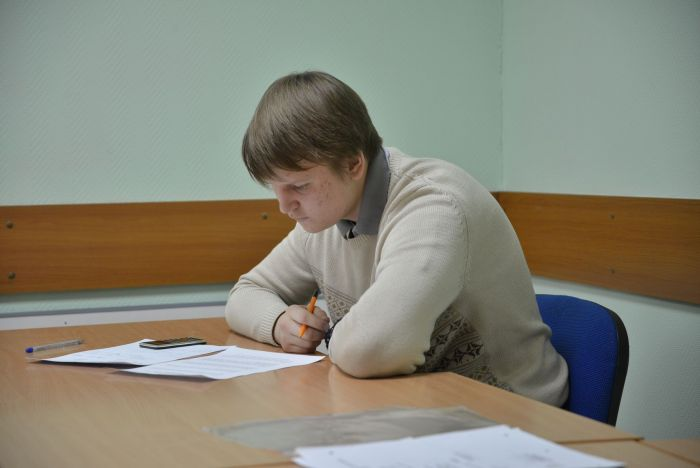students: (222, 69, 569, 408)
